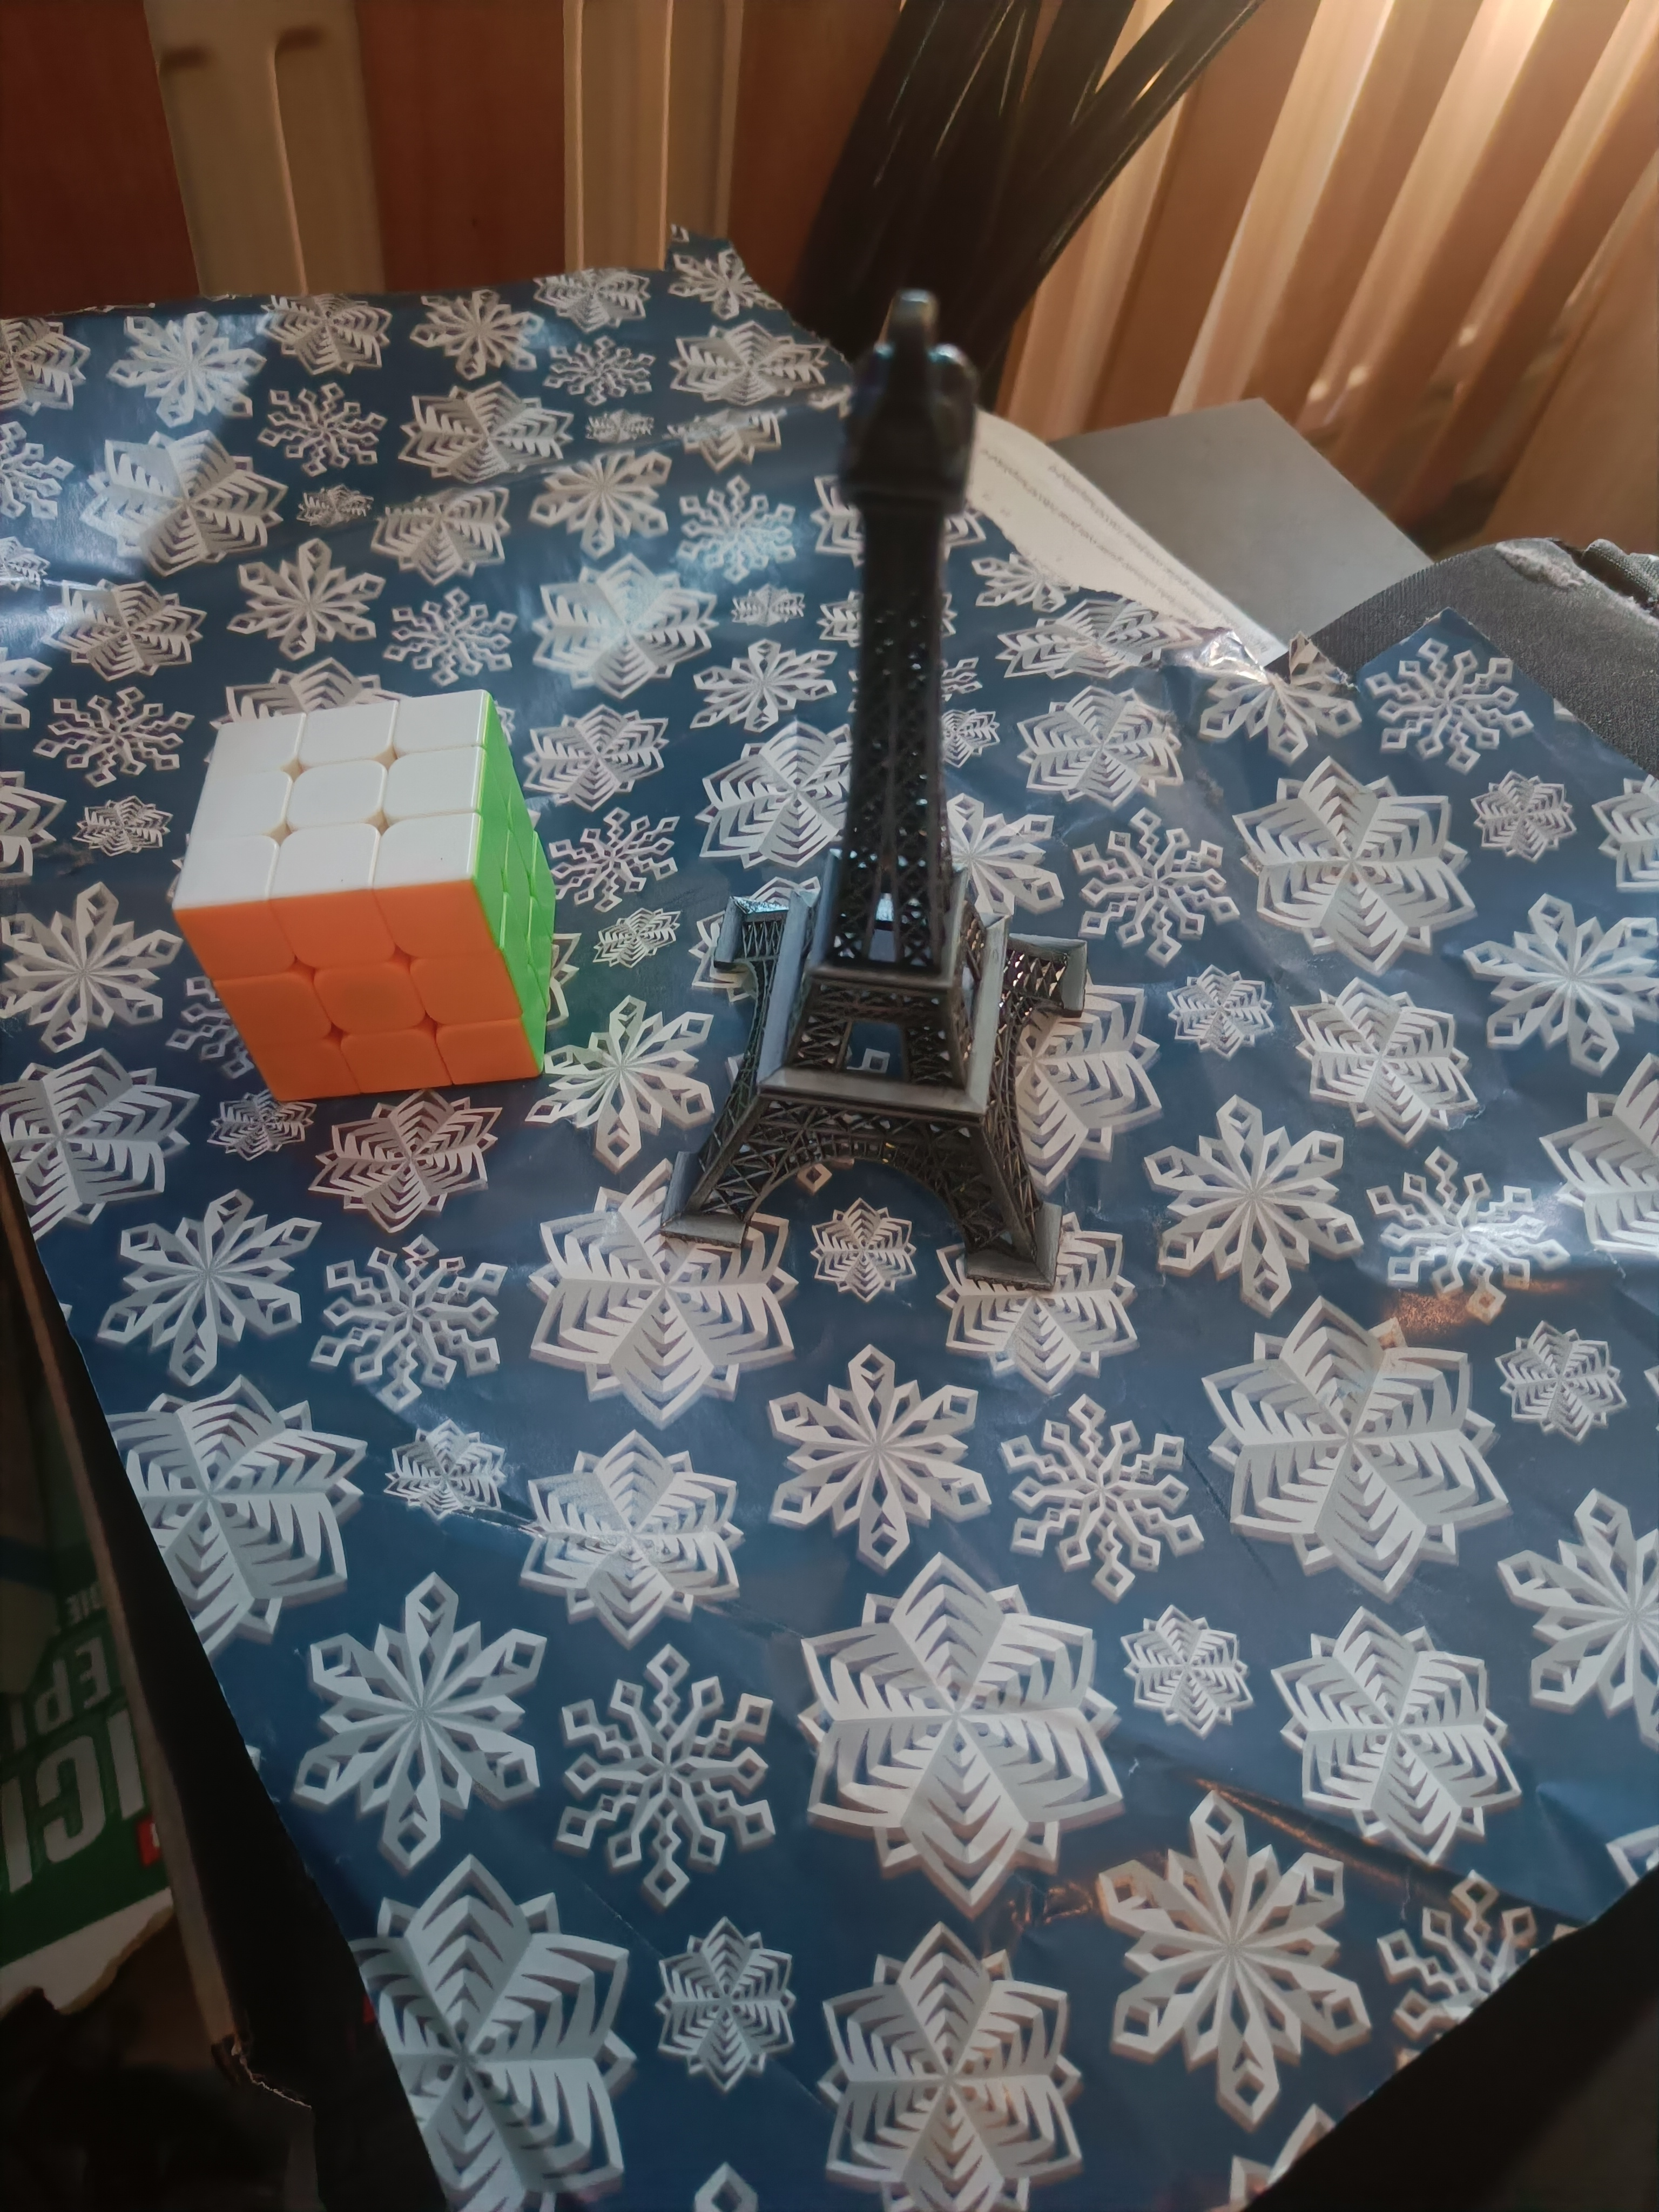Eiffel Tower: (676, 275, 1103, 1285)
Rubiks Cube: (178, 676, 573, 1113)
